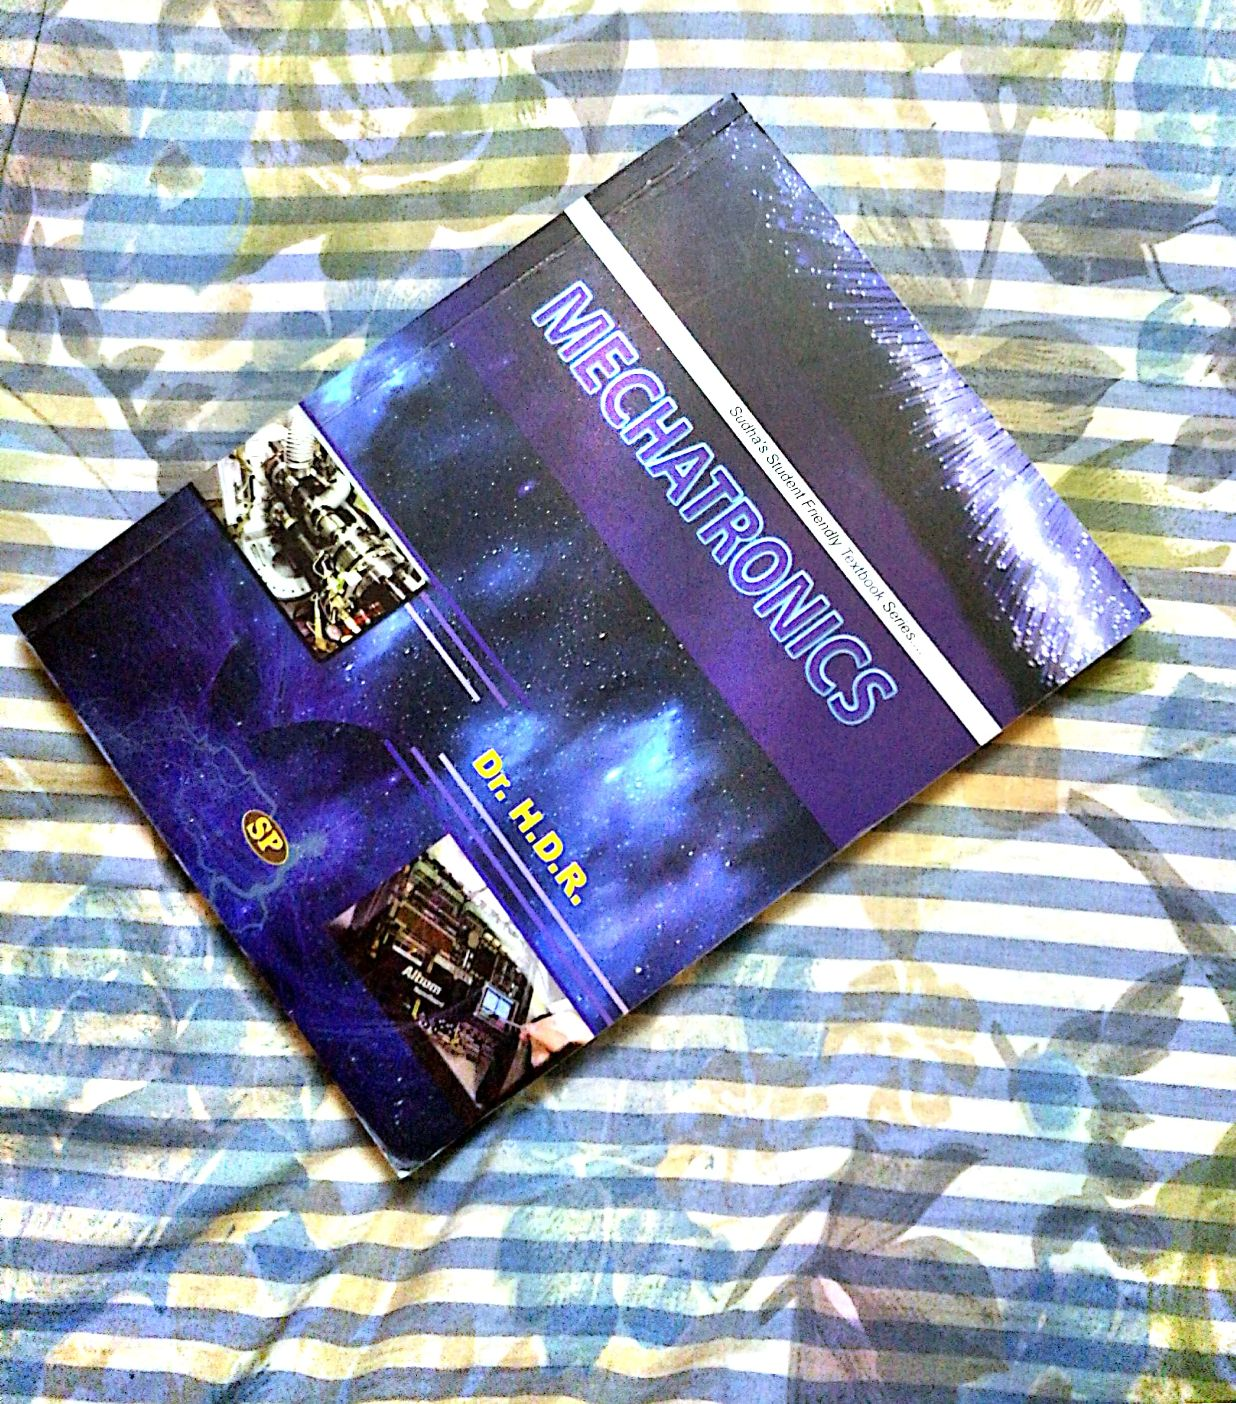mechatronics: (14, 121, 1087, 1100)
